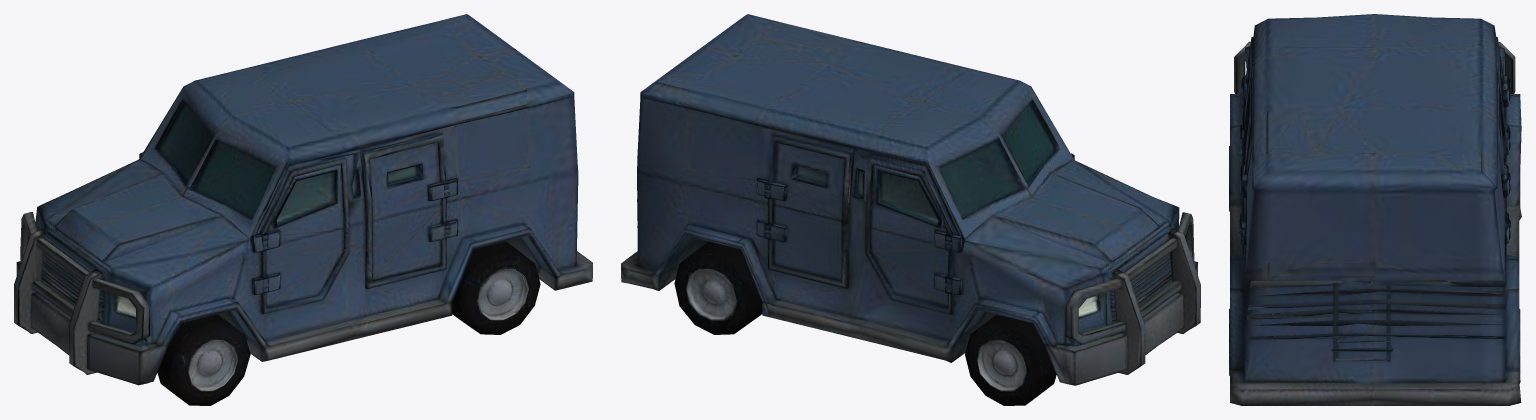
File: 58-armored-cash-transport-van.glb
3 renders of one model, left to right at view 1: azimuth 30°, elevation 25°; view 2: azimuth 150°, elevation 25°; view 3: azimuth 270°, elevation 25°, orthographic. The views are drawn at different scales.
Parts seen in each view (by area): view 1: geometry_0; view 2: geometry_0; view 3: geometry_0.
Part boxes in pixels (x1,y1,x2,y2): geometry_0: (14, 14, 592, 405); geometry_0: (621, 14, 1200, 405); geometry_0: (1229, 14, 1521, 405).
Size of the model in its own units: 0.957 by 0.4199 by 0.4277.
Materials: 1 (1 with a texture image).
